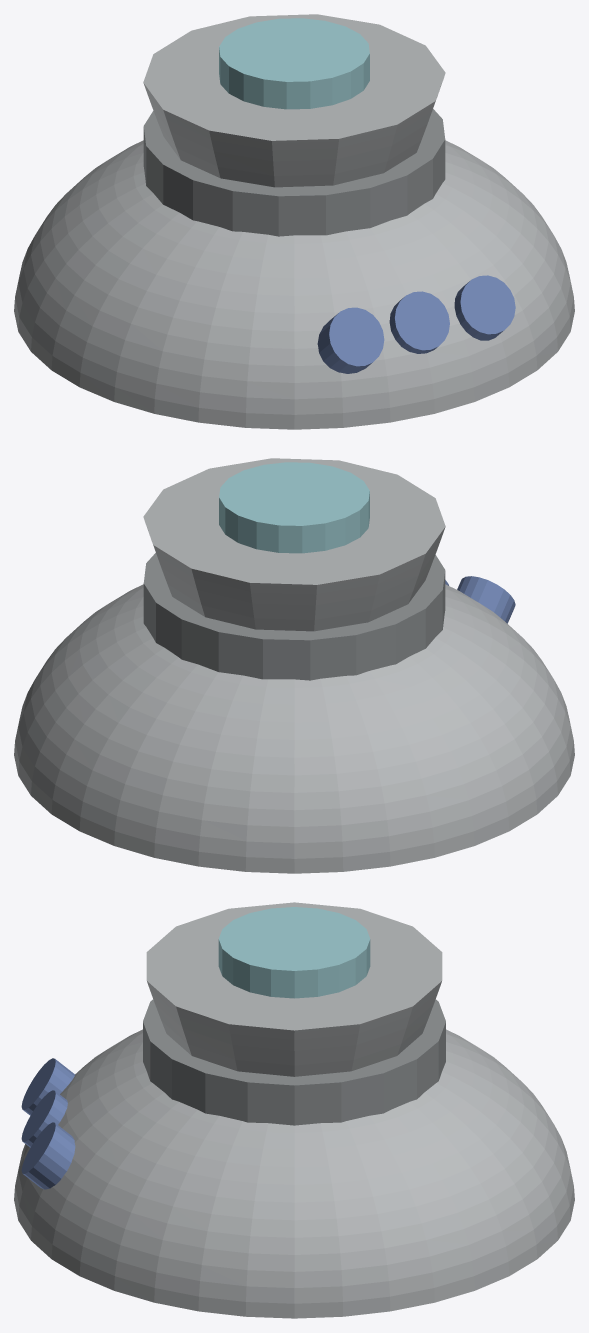
The model's file is projector.glb.
3 renders of one model, top to bottom at view 1: azimuth 30°, elevation 25°; view 2: azimuth 150°, elevation 25°; view 3: azimuth 270°, elevation 25°, orthographic.
Parts seen in each view (by area): view 1: Mesh_Mesh_head_geo.001_lambert2SG.001; view 2: Mesh_Mesh_head_geo.001_lambert2SG.001; view 3: Mesh_Mesh_head_geo.001_lambert2SG.001.
Boxes of the visible parts, x1,y1,x2,y2 form: Mesh_Mesh_head_geo.001_lambert2SG.001: [14, 14, 574, 429]; Mesh_Mesh_head_geo.001_lambert2SG.001: [14, 458, 574, 873]; Mesh_Mesh_head_geo.001_lambert2SG.001: [14, 902, 574, 1318].
Size of the model in its own units: 37 by 19 by 37.
